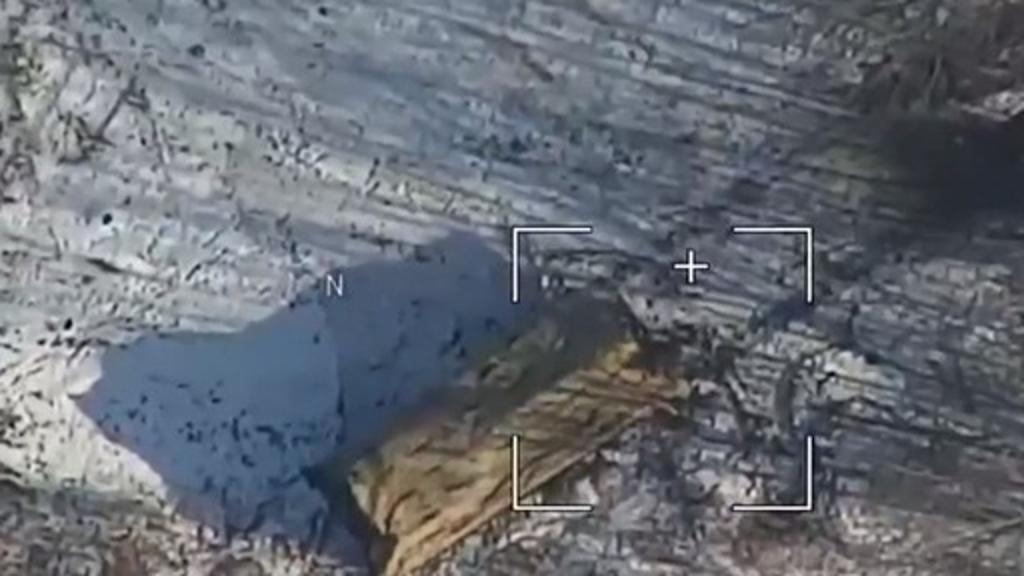ART: (298, 270, 684, 574)
